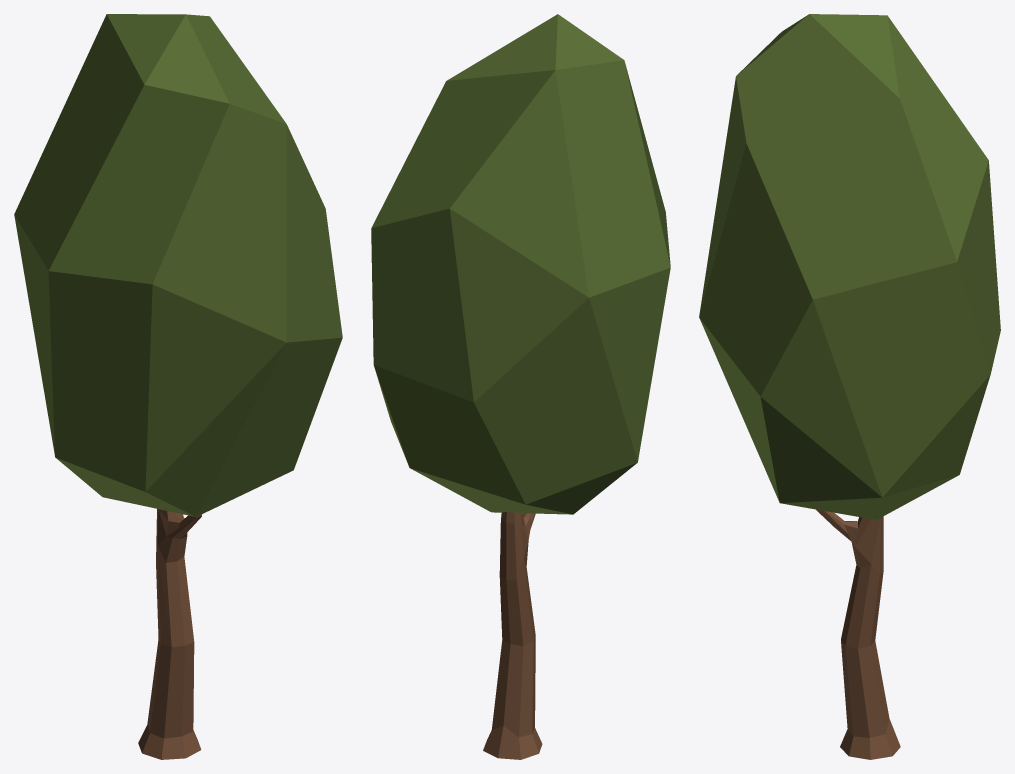
The picture shows the model from 3 angles, left to right: view 1: azimuth 30°, elevation 25°; view 2: azimuth 150°, elevation 25°; view 3: azimuth 270°, elevation 25°; orthographic projection. The views are drawn at different scales.
Parts seen in each view (by area): view 1: tree_temperate_01; view 2: tree_temperate_01; view 3: tree_temperate_01.
Part boxes in pixels (x1=…): tree_temperate_01: x1=14, y1=14, x2=342, y2=759; tree_temperate_01: x1=371, y1=14, x2=670, y2=759; tree_temperate_01: x1=699, y1=14, x2=1000, y2=759.
Bounding box in the file's own units: 1.91 × 5.12 × 1.93.
1 material, 1 textured.
